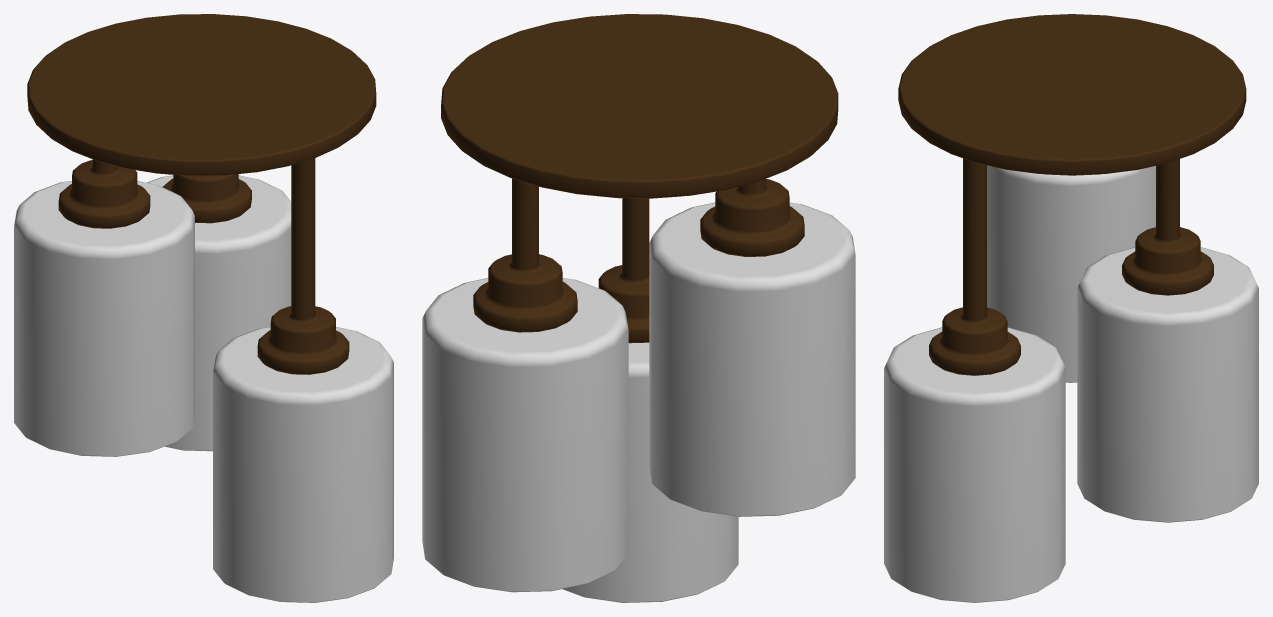
Rendered from Lamp_Ceiling_Apt_01.fbx.
3 renders of one model, left to right at view 1: azimuth 30°, elevation 25°; view 2: azimuth 150°, elevation 25°; view 3: azimuth 270°, elevation 25°, orthographic. The views are drawn at different scales.
Visible parts, largest first — view 1: Lamp_Ceiling_Apt_01, Glass_005, Glass_003, Glass_004; view 2: Lamp_Ceiling_Apt_01, Glass_004, Glass_003, Glass_005; view 3: Lamp_Ceiling_Apt_01, Glass_004, Glass_005, Glass_003.
Boxes of the visible parts, x1,y1,x2,y2 form: Lamp_Ceiling_Apt_01: [27, 14, 376, 374]; Glass_005: [213, 327, 393, 602]; Glass_003: [14, 181, 194, 456]; Glass_004: [147, 175, 291, 451]; Lamp_Ceiling_Apt_01: [441, 14, 838, 343]; Glass_004: [422, 278, 628, 592]; Glass_003: [649, 202, 855, 516]; Glass_005: [562, 342, 738, 602]; Lamp_Ceiling_Apt_01: [898, 14, 1246, 375]; Glass_004: [1077, 247, 1258, 522]; Glass_005: [884, 327, 1065, 602]; Glass_003: [987, 165, 1155, 382].
Bounding box in the file's own units: 155 × 205 × 154.
